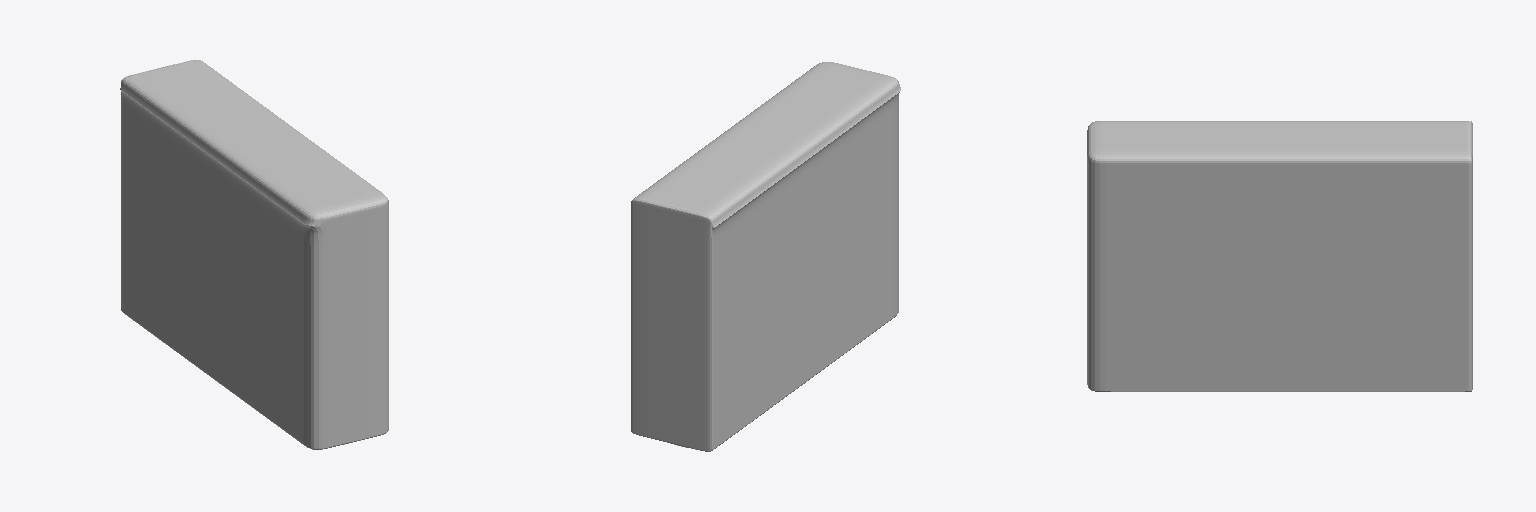
File: sofarightarm.obj
3 views of the same model, side by side, from view 1: azimuth 30°, elevation 25°; view 2: azimuth 150°, elevation 25°; view 3: azimuth 270°, elevation 25° (orthographic).
Parts seen in each view (by area): view 1: 立方体.007; view 2: 立方体.007; view 3: 立方体.007.
Boxes of the visible parts, x1=… form: 立方体.007: x1=120, y1=60, x2=388, y2=449; 立方体.007: x1=631, y1=62, x2=900, y2=451; 立方体.007: x1=1087, y1=121, x2=1472, y2=391.
Bounding box in the file's own units: 0.2742 × 0.7498 × 1.1.